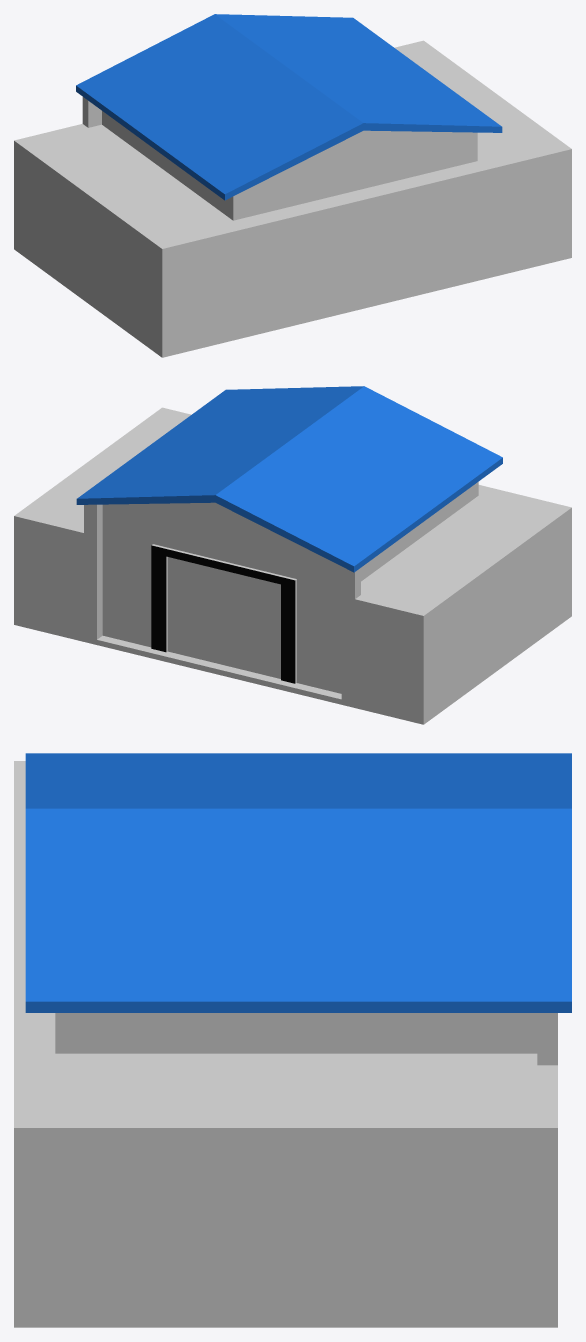
File: BLUHANGER.fbx
3 renders of one model, top to bottom at view 1: azimuth 30°, elevation 25°; view 2: azimuth 150°, elevation 25°; view 3: azimuth 270°, elevation 25°, orthographic. The views are drawn at different scales.
Visible parts, largest first — view 1: Cube; view 2: Cube; view 3: Cube.
Boxes of the visible parts, x1,y1,x2,y2 form: Cube: (14, 14, 571, 357); Cube: (14, 386, 571, 724); Cube: (14, 753, 571, 1327).
Size of the model in its own units: 1128 by 480 by 725.
